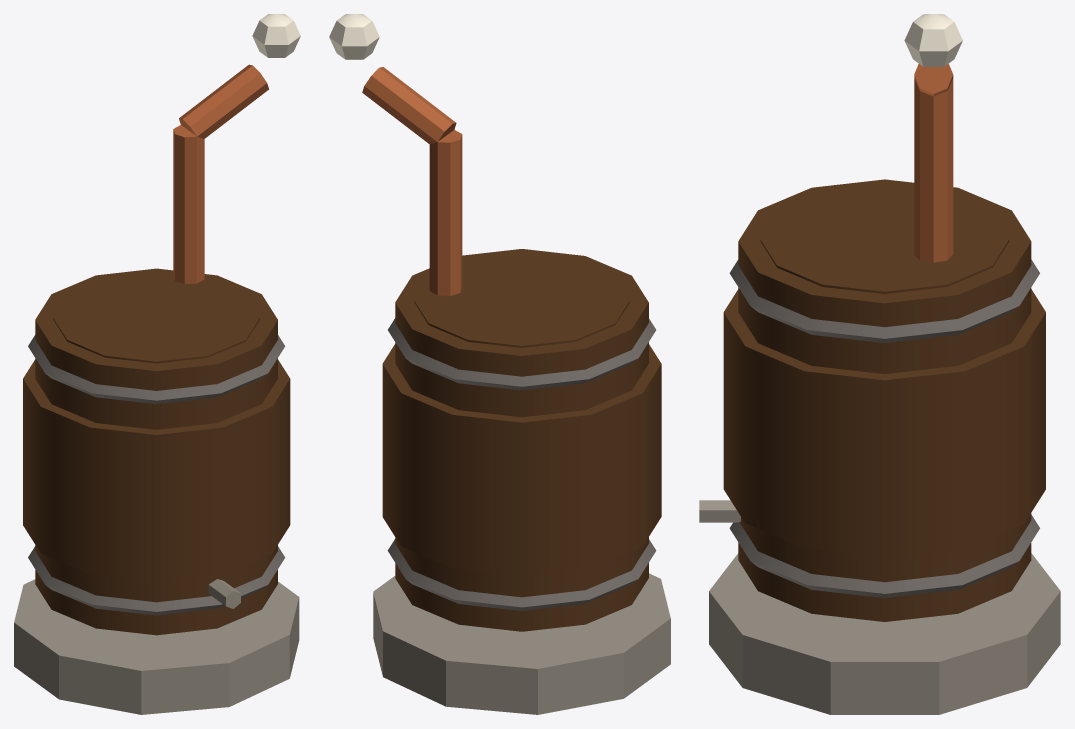
The model's file is PR_Station_KaraBira_T1.fbx.
The picture shows the model from 3 angles, left to right: view 1: azimuth 30°, elevation 25°; view 2: azimuth 150°, elevation 25°; view 3: azimuth 270°, elevation 25°; orthographic projection. The views are drawn at different scales.
Parts seen in each view (by area): view 1: PR_Station_KaraBira_T1; view 2: PR_Station_KaraBira_T1; view 3: PR_Station_KaraBira_T1.
Part boxes in pixels (bbox=[...]): PR_Station_KaraBira_T1: bbox=[14, 14, 300, 714]; PR_Station_KaraBira_T1: bbox=[329, 14, 670, 714]; PR_Station_KaraBira_T1: bbox=[699, 14, 1060, 714].
Size of the model in its own units: 0.7943 by 1.61 by 0.74.
Materials: 1 (1 with a texture image).
